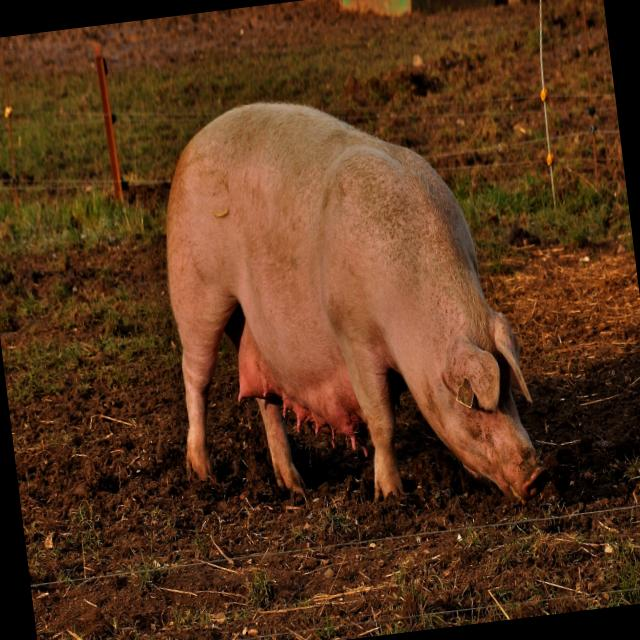pig: (163, 101, 548, 505)
